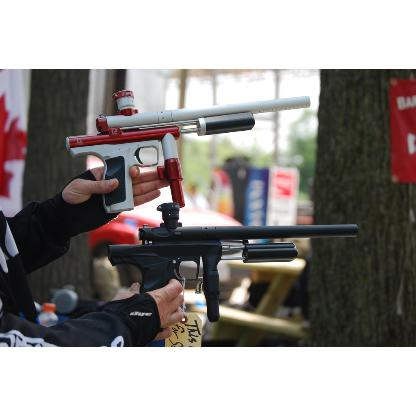gun: (64, 88, 310, 212), (66, 88, 309, 212), (110, 202, 358, 322), (107, 202, 357, 320)
